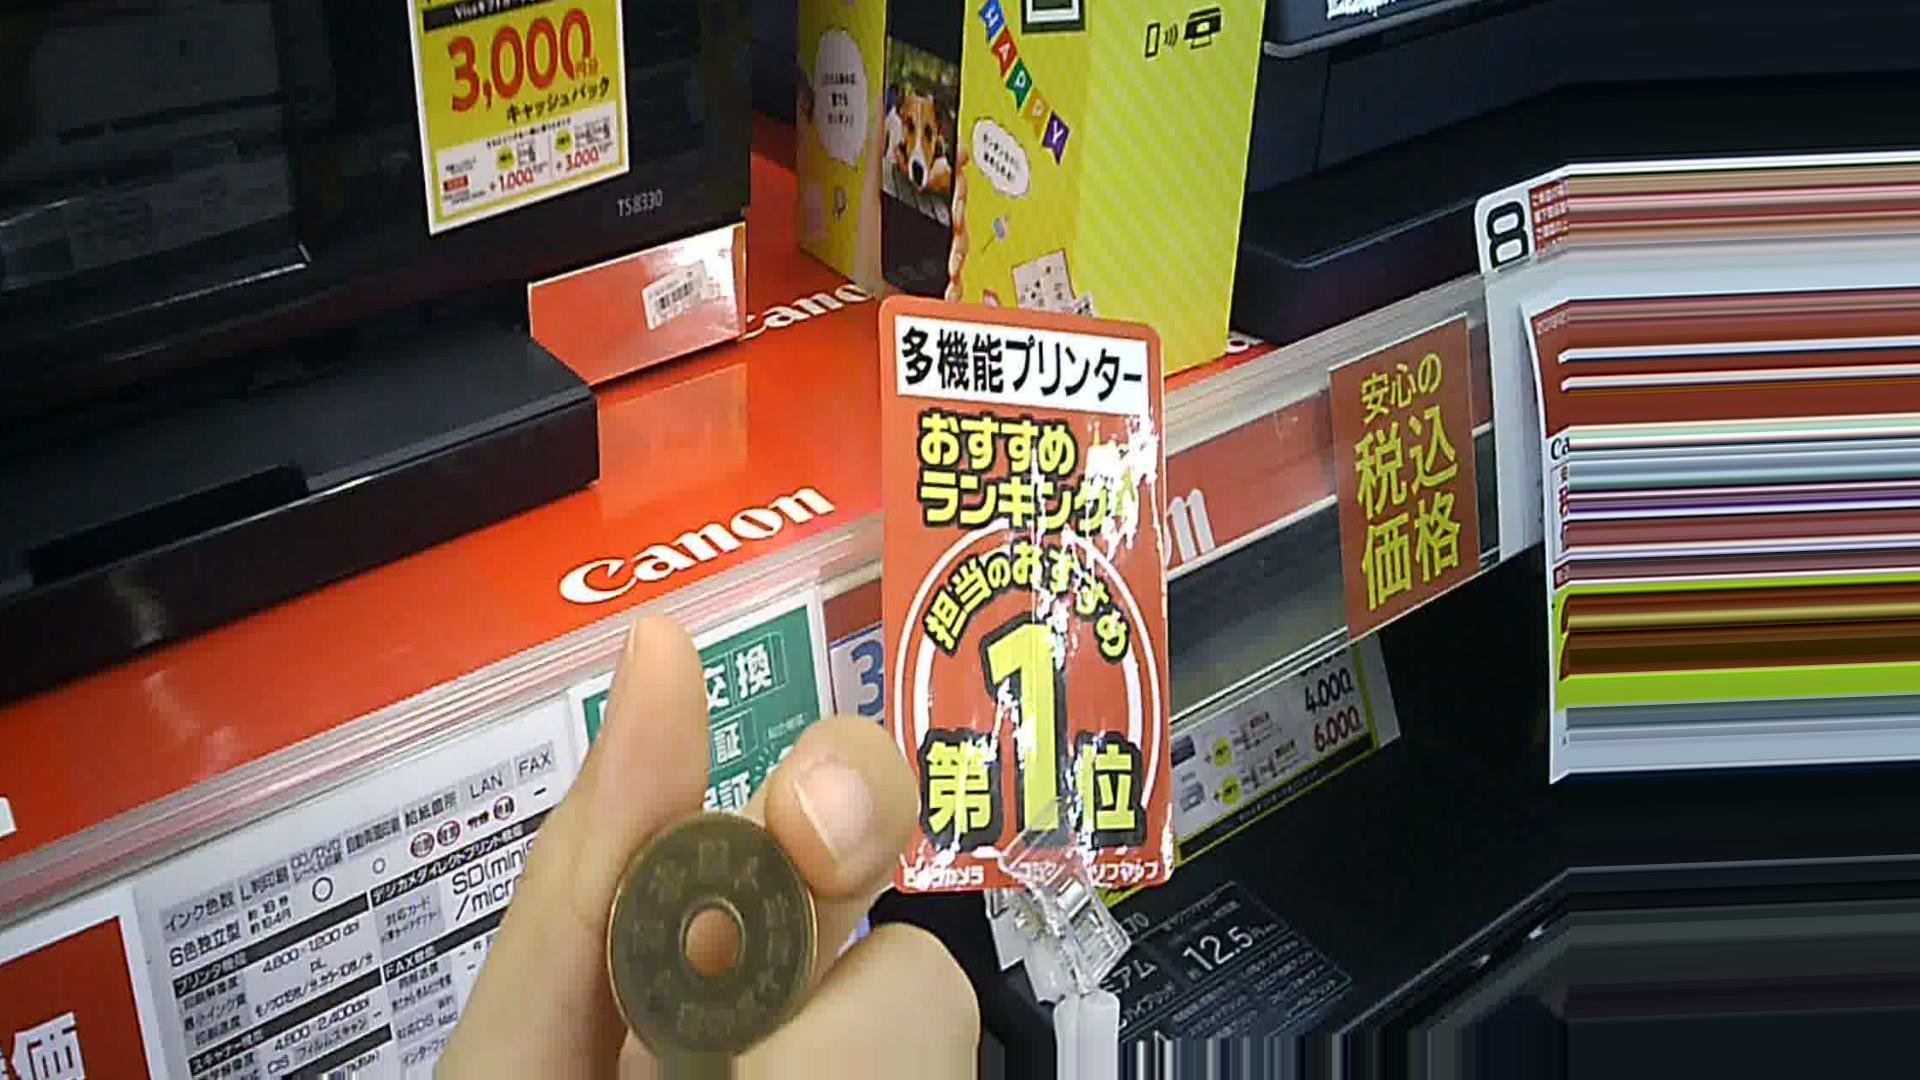5 Yen: (592, 818, 823, 1048)
